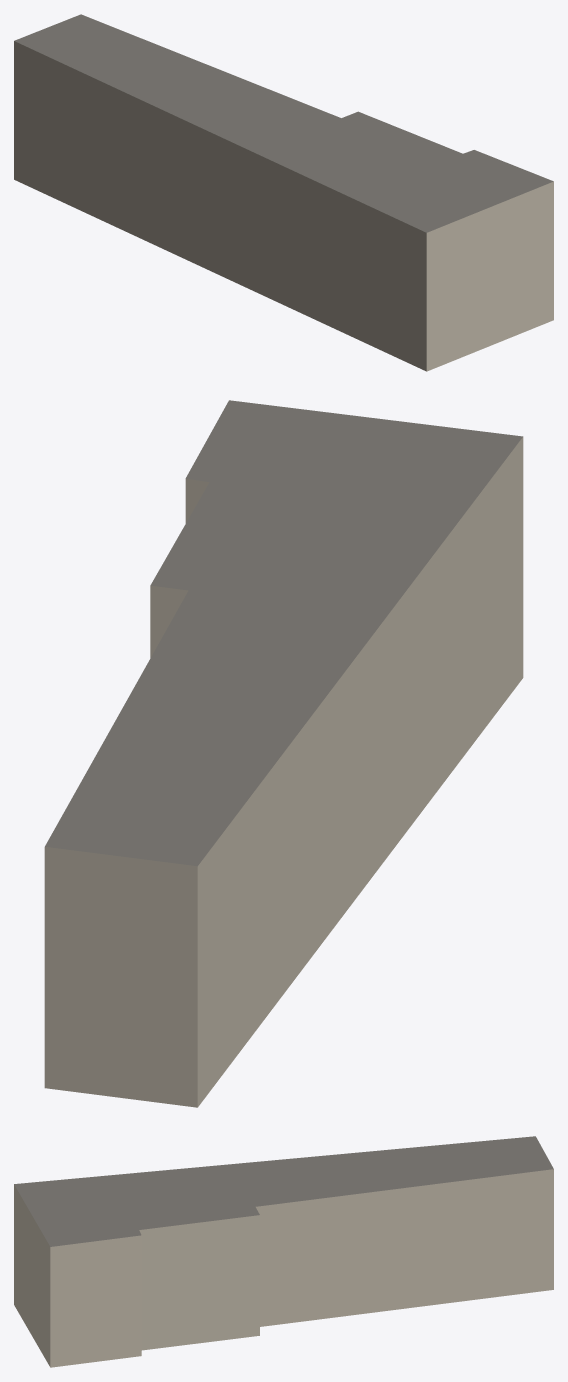
3 views of the same model, one above another, from view 1: azimuth 30°, elevation 25°; view 2: azimuth 150°, elevation 25°; view 3: azimuth 270°, elevation 25° (orthographic). The views are drawn at different scales.
Parts seen in each view (by area): view 1: HP-w299010094; view 2: HP-w299010094; view 3: HP-w299010094.
Part boxes in pixels (x1=…): HP-w299010094: x1=14, y1=14, x2=553, y2=371; HP-w299010094: x1=44, y1=400, x2=523, y2=1107; HP-w299010094: x1=14, y1=1136, x2=553, y2=1367.
Bounding box in the file's own units: 35.43 × 18 × 72.98.
